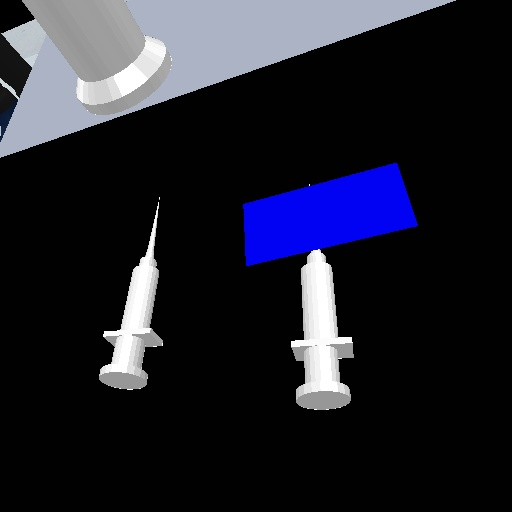jeringuilla: (86, 187, 176, 394), (286, 248, 359, 414)
